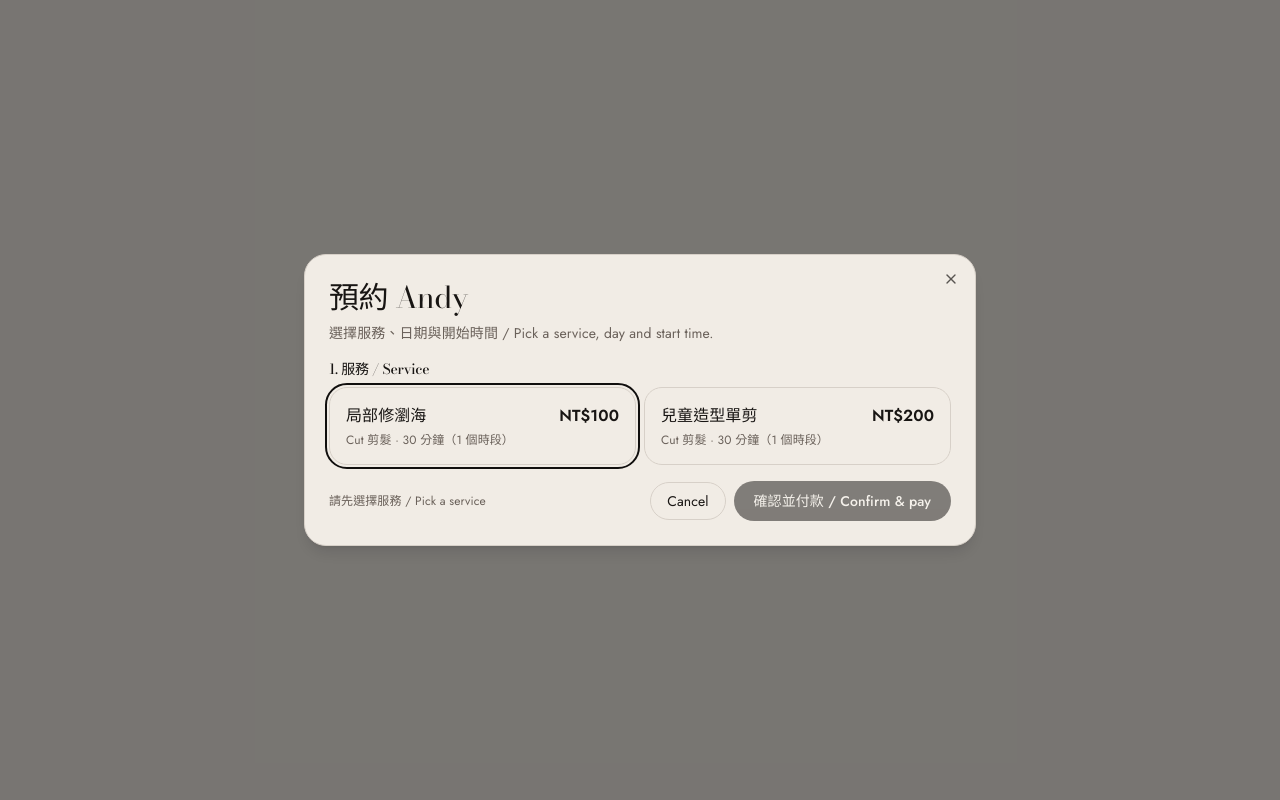
Test: BookingDialog › enables Confirm once a service, day and start time are picked
The width and height of the screenshot is (1280, 800).
Click the radio button labelled "兒童造型單剪 NT$200 Cut 剪髮 · 30 分鐘（1 個時段）" at (709, 416), box [644,387,951,465]
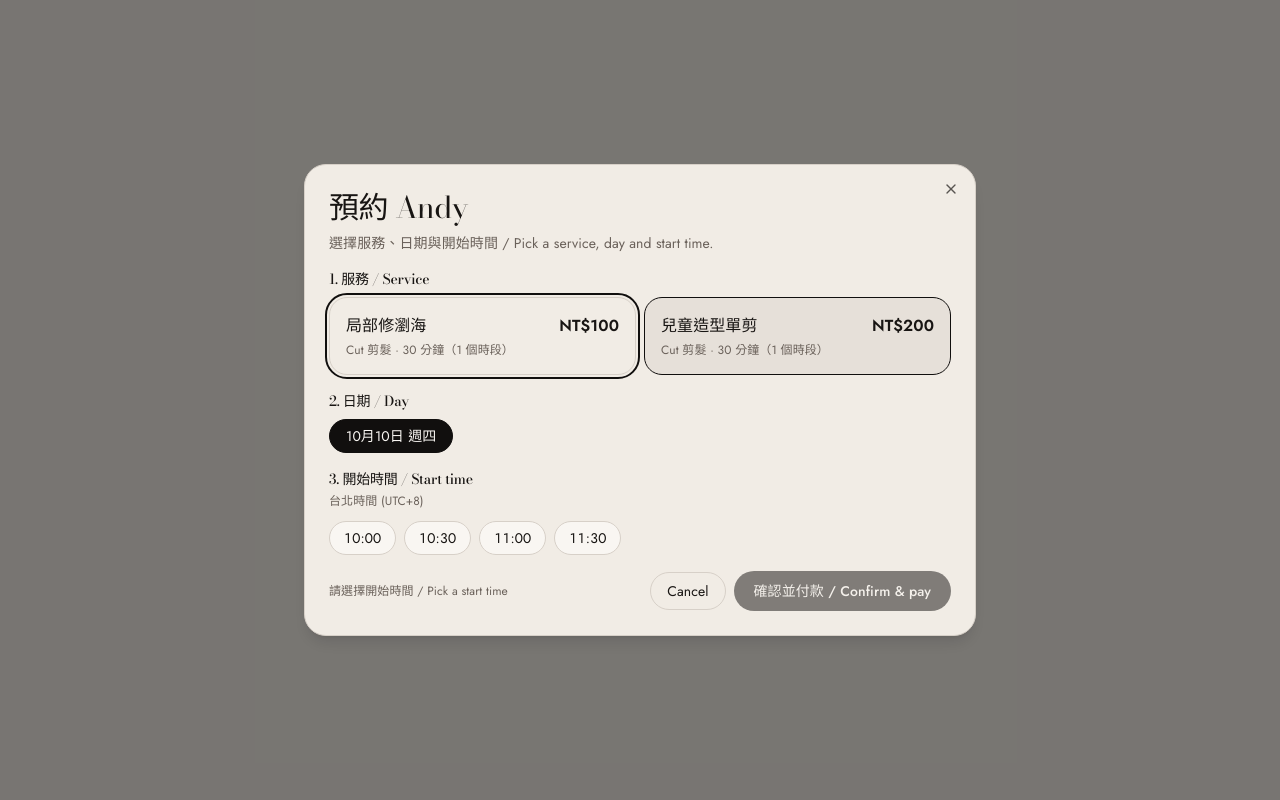
Click the button "10:00" at (363, 538), box [329,521,396,555]
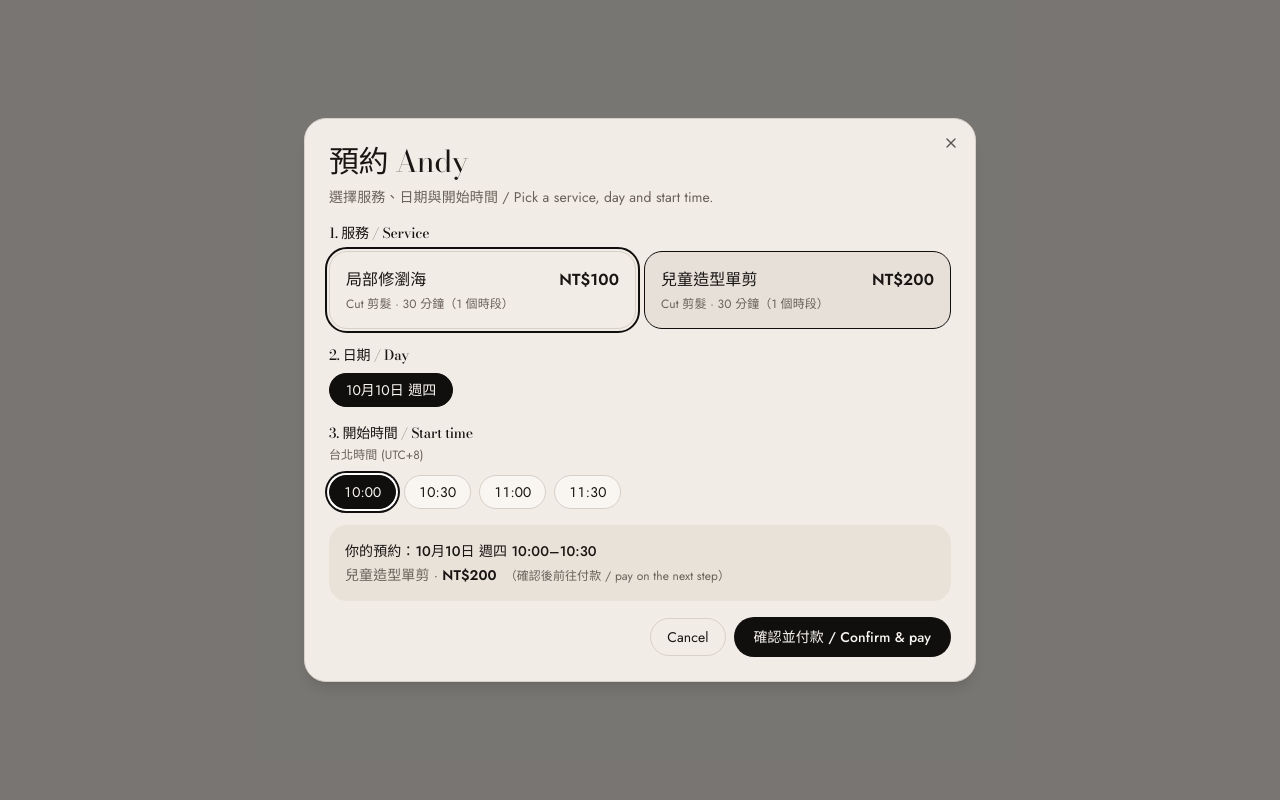
Expected: the text "你的預約" is shown, [345,541,415,561]
Expected: the button "確認並付款 / Confirm & pay" is enabled, [734,617,951,657]
